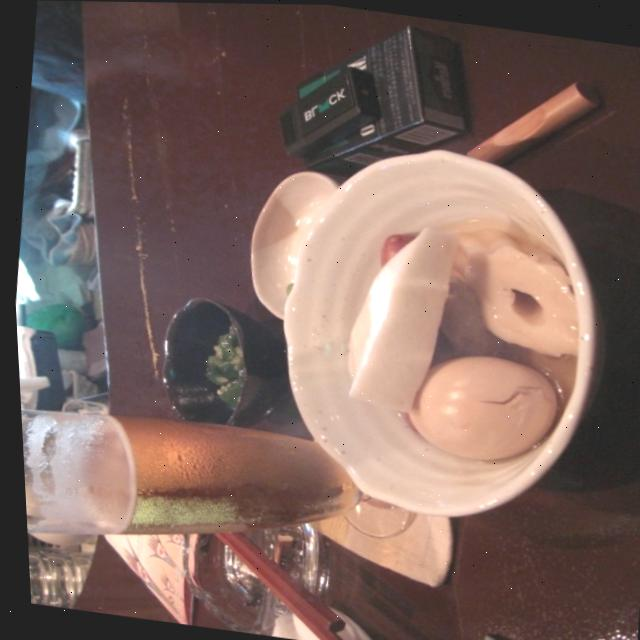汤锅炖物: (321, 211, 602, 474)
